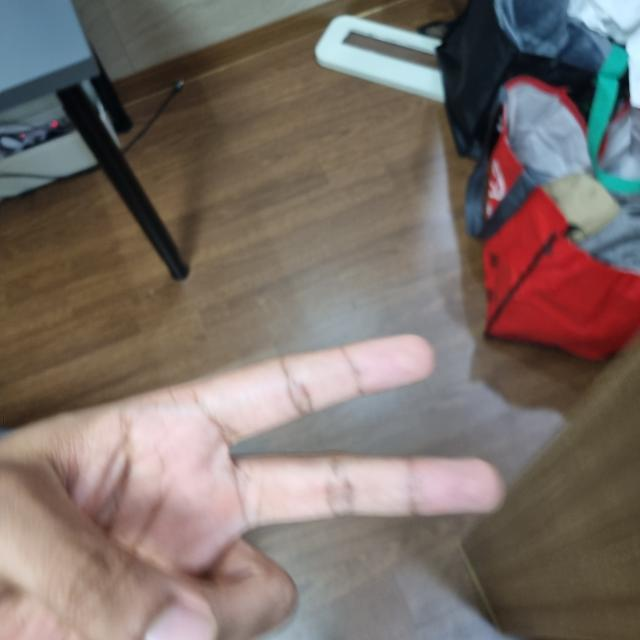Scissors: (0, 341, 515, 639)
